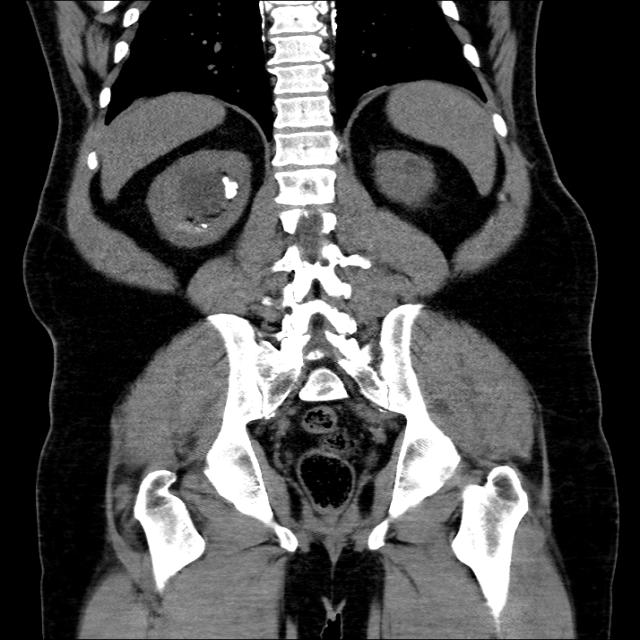kidneystone: (222, 176, 239, 198)
